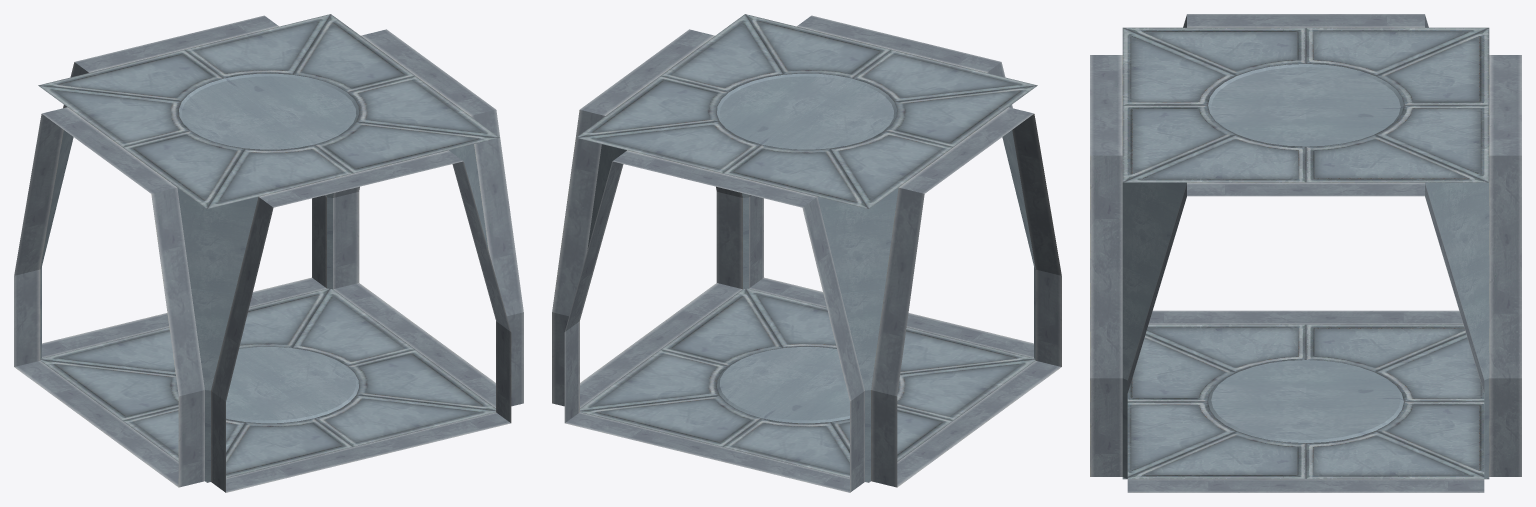
Rendered from CorridorB.fbx.
3 views of the same model, side by side, from view 1: azimuth 30°, elevation 25°; view 2: azimuth 150°, elevation 25°; view 3: azimuth 270°, elevation 25° (orthographic). The views are drawn at different scales.
Visible parts, largest first — view 1: corridorB01, Bridge; view 2: corridorB01, Bridge; view 3: corridorB01, Bridge.
Part boxes in pixels (x1,y1,x2,y2): corridorB01: [38, 14, 499, 482]; Bridge: [14, 15, 523, 492]; corridorB01: [576, 14, 1037, 482]; Bridge: [552, 15, 1061, 492]; corridorB01: [1122, 27, 1489, 479]; Bridge: [1090, 14, 1521, 492].
Size of the model in its own units: 1.21 by 0.9169 by 1.21.
